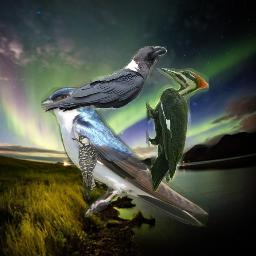Crow: (43, 46, 167, 113)
Swallow: (41, 87, 209, 227)
Woodpecker: (146, 68, 209, 192), (70, 135, 102, 201)
